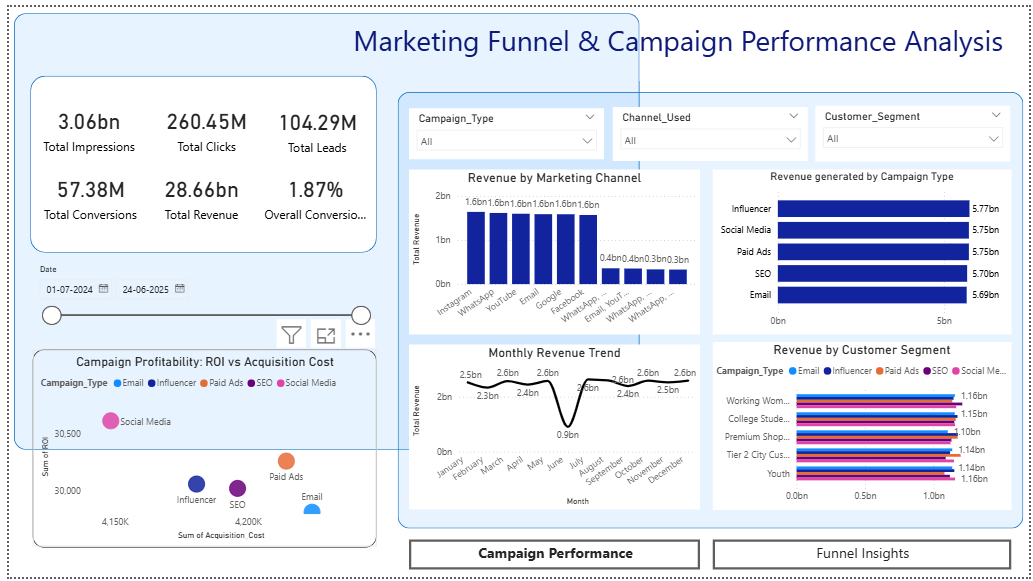

Layout of this report page (visuals, bound fields, positions):
{"tool":"powerbi","page":{"name":"Campaign Performance","canvas":[1360,760],"ordinal":0},"visuals":[{"type":"textbox","box":[988,710,300,36],"z":0},{"type":"textbox","box":[562,710,334,36],"z":1000},{"type":"shape","box":[6,8,834,582],"z":2000},{"type":"shape","box":[28,92,462,236],"z":3000},{"type":"shape","box":[518,114,834,582],"z":4000},{"type":"card","fields":{"Values":["marketing_campaign_data.Total Impressions"]},"box":[30,116,154,90],"z":5000},{"type":"card","fields":{"Values":["marketing_campaign_data.Total Clicks"]},"box":[186,116,154,90],"z":6000},{"type":"clusteredBarChart","title":"Revenue generated by Campaign Type","fields":{"Category":["marketing_campaign_data.Campaign_Type"],"Y":["marketing_campaign_data.Total Revenue"]},"box":[938,216,398,220],"z":7000},{"type":"card","fields":{"Values":["marketing_campaign_data.Total Leads"]},"box":[338,118,146,88],"z":8000},{"type":"clusteredColumnChart","title":"Revenue by Marketing Channel","fields":{"Category":["marketing_campaign_data.Channel_Used"],"Y":["marketing_campaign_data.Total Revenue"]},"box":[534,216,388,220],"z":9000},{"type":"card","fields":{"Values":["marketing_campaign_data.Total Conversions"]},"box":[32,206,154,90],"z":10000},{"type":"scatterChart","title":"Campaign Profitability: ROI vs Acquisition Cost","fields":{"X":["Sum(marketing_campaign_data.Acquisition_Cost)"],"Y":["Sum(marketing_campaign_data.ROI)"],"Size":["marketing_campaign_data.Total Revenue"],"Series":["marketing_campaign_data.Campaign_Type"]},"box":[32,456,458,264],"z":11000},{"type":"slicer","fields":{"Values":["marketing_campaign_data.Campaign_Type"]},"box":[534,135.3,260.4,68],"z":12000},{"type":"card","fields":{"Values":["marketing_campaign_data.Total Revenue"]},"box":[180,206,154,90],"z":13000},{"type":"lineChart","title":"Monthly Revenue Trend","fields":{"Category":["marketing_campaign_data.Date.Variation.Date Hierarchy.Month"],"Y":["marketing_campaign_data.Total Revenue"]},"box":[534,450,388,220],"z":14000},{"type":"slicer","fields":{"Values":["marketing_campaign_data.Channel_Used"]},"box":[804.8,133.3,260.4,72],"z":15000},{"type":"card","fields":{"Values":["marketing_campaign_data.Overall Conversion Rate"]},"box":[332,206,154,90],"z":16000},{"type":"clusteredBarChart","title":"Revenue by Customer Segment","fields":{"Category":["marketing_campaign_data.Customer_Segment"],"Y":["marketing_campaign_data.Total Revenue"],"Series":["marketing_campaign_data.Campaign_Type"]},"box":[938,446,398,224],"z":17000},{"type":"slicer","fields":{"Values":["marketing_campaign_data.Customer_Segment"]},"box":[1075.6,132,260.4,74],"z":18000},{"type":"slicer","fields":{"Values":["marketing_campaign_data.Date"]},"box":[28,338,462,94],"z":19000},{"type":"textbox","box":[448,14,888,78],"z":20000},{"type":"actionButton","box":[534,710,388,40],"z":21000},{"type":"actionButton","box":[938,710,398,40],"z":22000}]}

Visuals, with their boxes in screenshot pixels (x1, y1, x2, y2), scaled from the page's 1360x760 canvas onto the 1033x581 screenshot:
textbox: box(750, 543, 978, 570)
textbox: box(427, 543, 681, 570)
shape: box(5, 6, 638, 451)
shape: box(21, 70, 372, 251)
shape: box(393, 87, 1027, 532)
card - marketing_campaign_data.Total Impressions: box(23, 89, 140, 157)
card - marketing_campaign_data.Total Clicks: box(141, 89, 258, 157)
"Revenue generated by Campaign Type" clusteredBarChart: box(712, 165, 1015, 333)
card - marketing_campaign_data.Total Leads: box(257, 90, 368, 157)
"Revenue by Marketing Channel" clusteredColumnChart: box(406, 165, 700, 333)
card - marketing_campaign_data.Total Conversions: box(24, 157, 141, 226)
"Campaign Profitability: ROI vs Acquisition Cost" scatterChart: box(24, 349, 372, 550)
slicer - marketing_campaign_data.Campaign_Type: box(406, 103, 603, 155)
card - marketing_campaign_data.Total Revenue: box(137, 157, 254, 226)
"Monthly Revenue Trend" lineChart: box(406, 344, 700, 512)
slicer - marketing_campaign_data.Channel_Used: box(611, 102, 809, 157)
card - marketing_campaign_data.Overall Conversion Rate: box(252, 157, 369, 226)
"Revenue by Customer Segment" clusteredBarChart: box(712, 341, 1015, 512)
slicer - marketing_campaign_data.Customer_Segment: box(817, 101, 1015, 157)
slicer - marketing_campaign_data.Date: box(21, 258, 372, 330)
textbox: box(340, 11, 1015, 70)
actionButton: box(406, 543, 700, 573)
actionButton: box(712, 543, 1015, 573)
